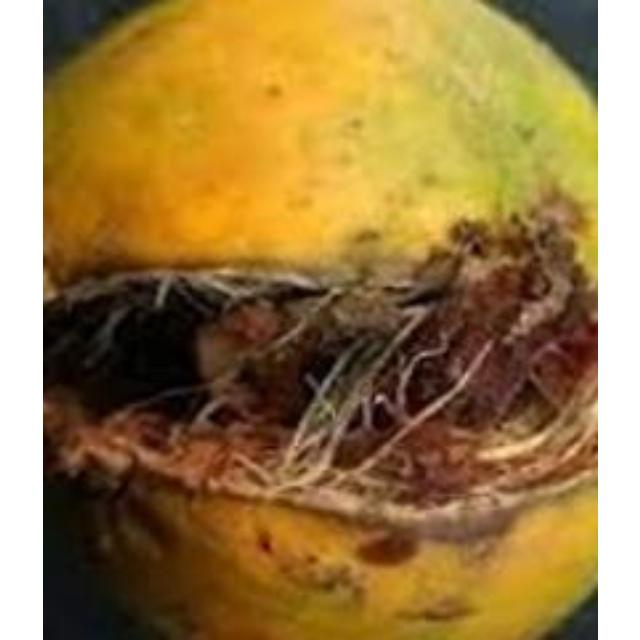damaged: (42, 0, 594, 637)
